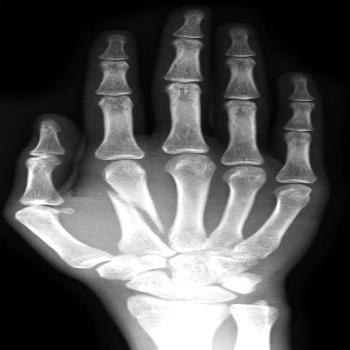Fracture: (98, 182, 168, 231)
